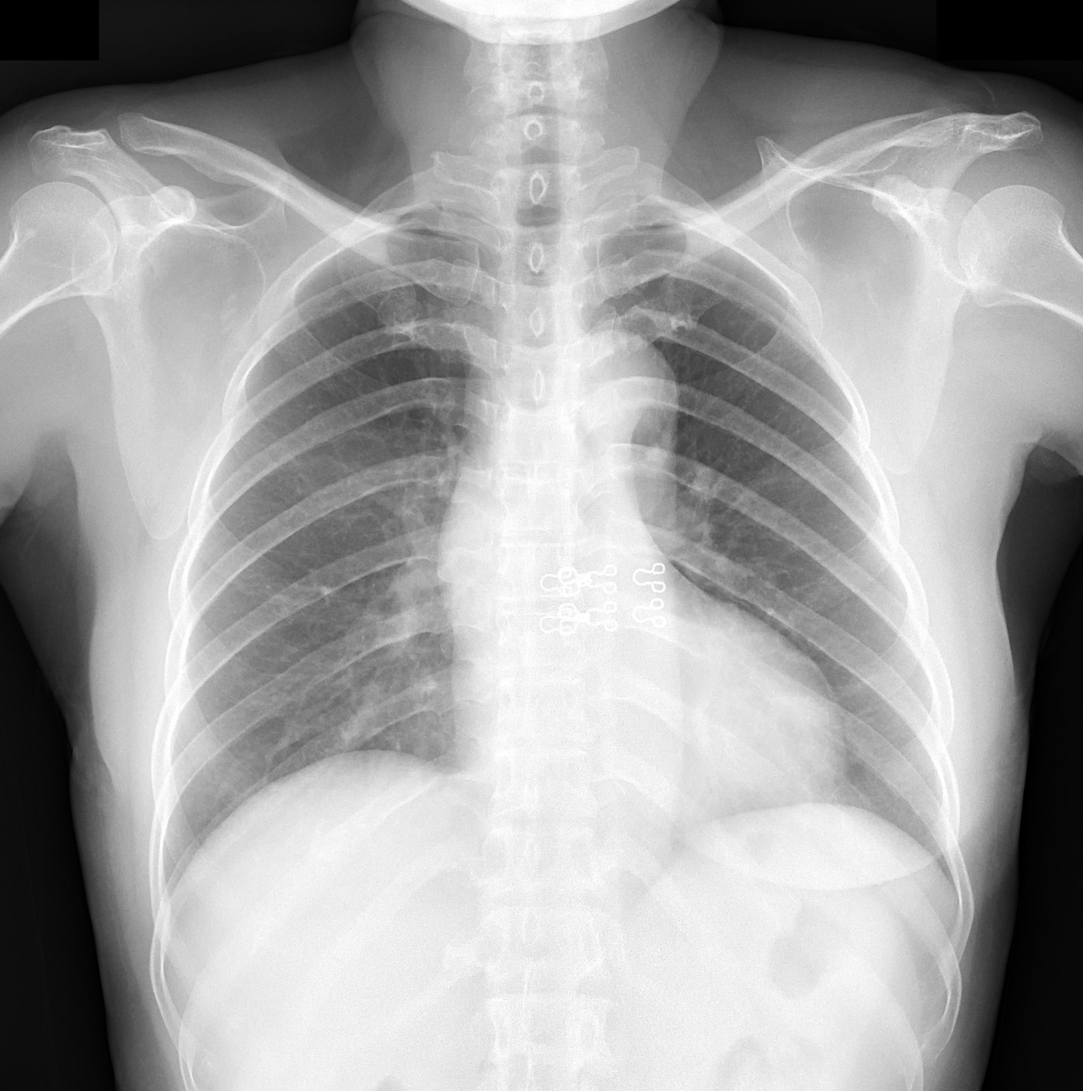Aortic enlargement: (557, 335, 678, 440)
